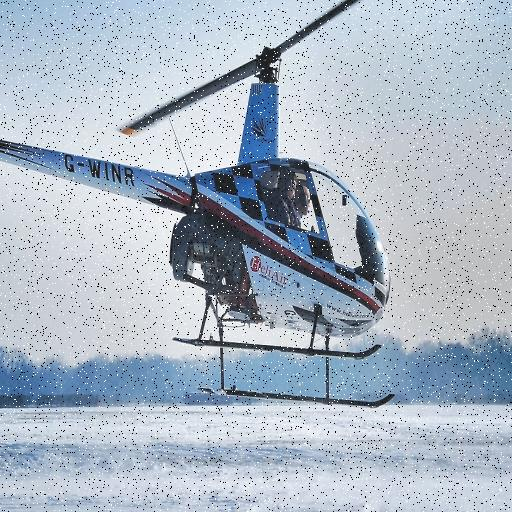helicopter: (1, 1, 427, 422)
